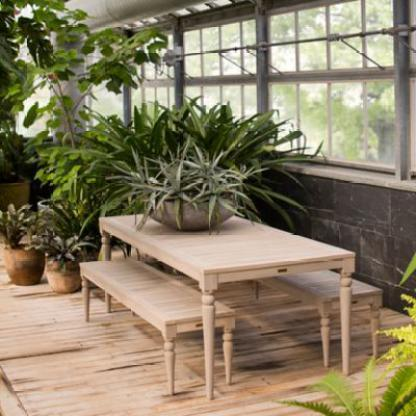table: (97, 196, 360, 406)
